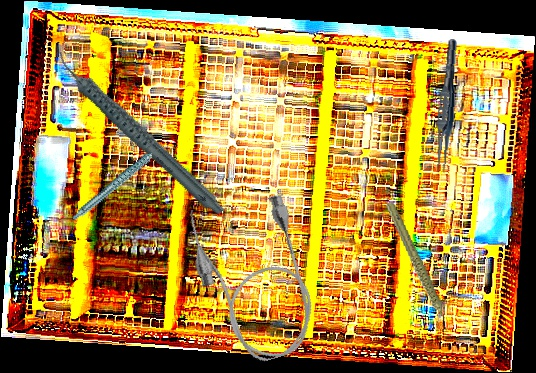Cannula: (179, 183, 329, 373)
Handpiece: (54, 22, 228, 242), (384, 195, 449, 337), (61, 143, 179, 221)
Tissue Forceps: (432, 38, 461, 176)
